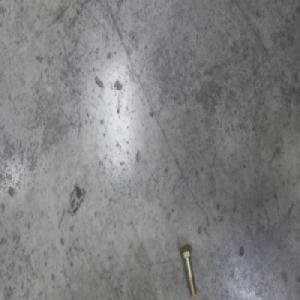Bolt: (179, 243, 197, 297)
